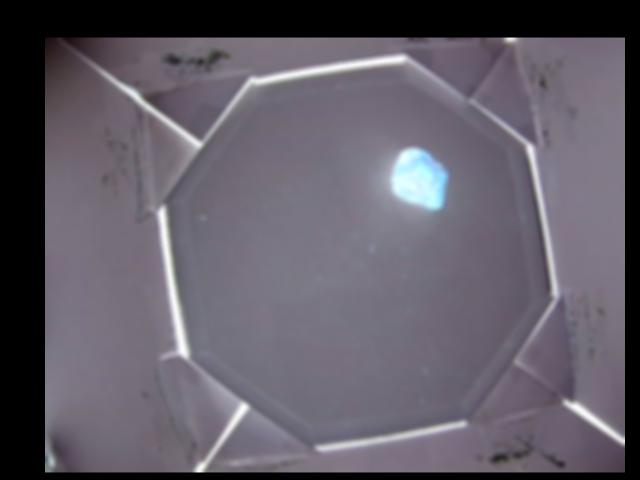Brisk: (391, 144, 447, 212)
